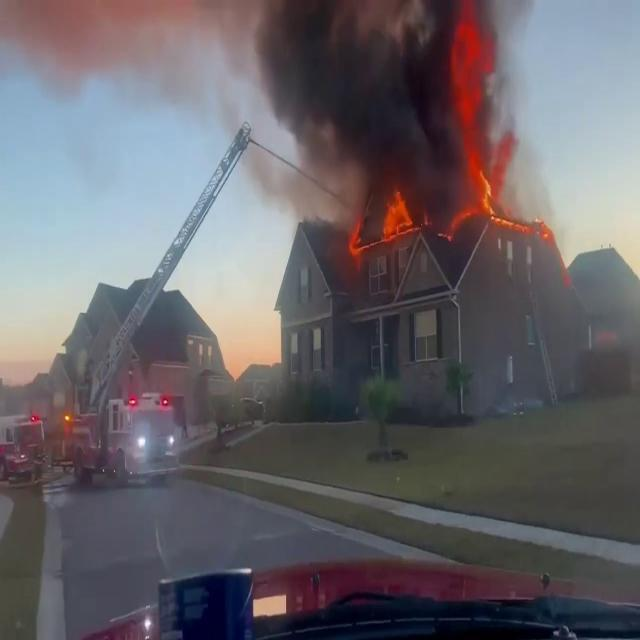Fire: (447, 32, 507, 222), (380, 184, 416, 243)
Smoke: (251, 0, 533, 234)
